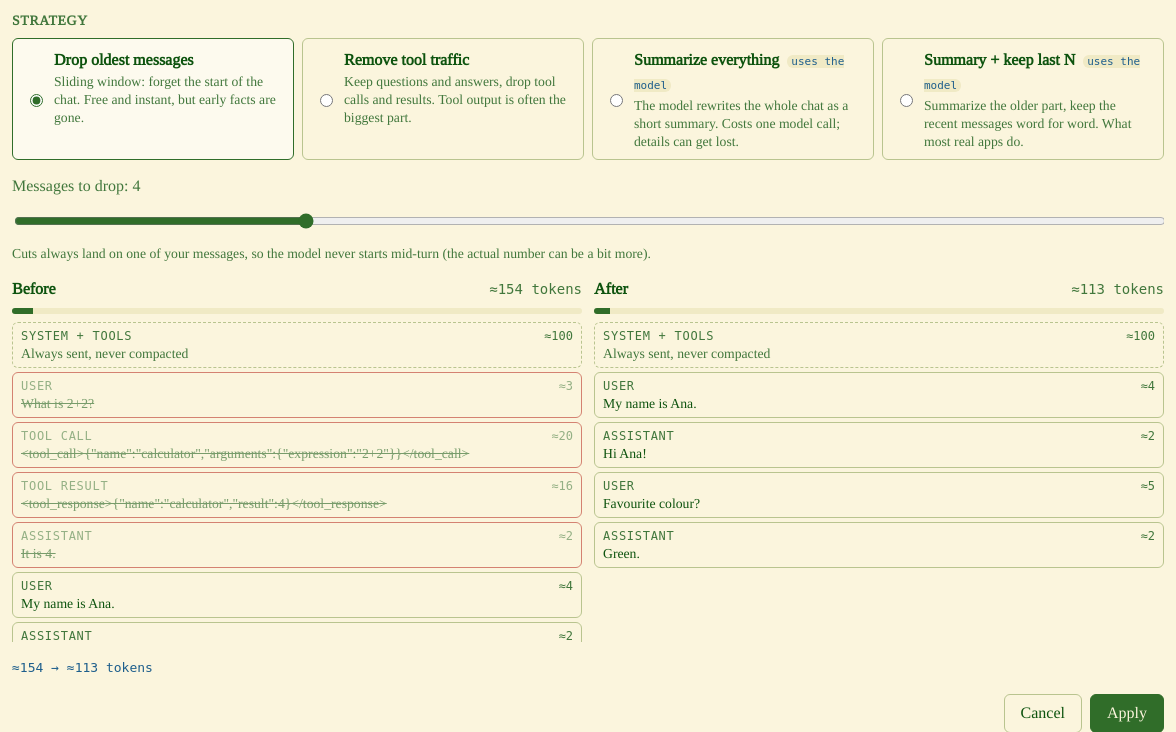
Test: summary errors are shown
Click the radio button labelled "Summarize everything": click(616, 100) x1=610 y1=50 x2=623 y2=151
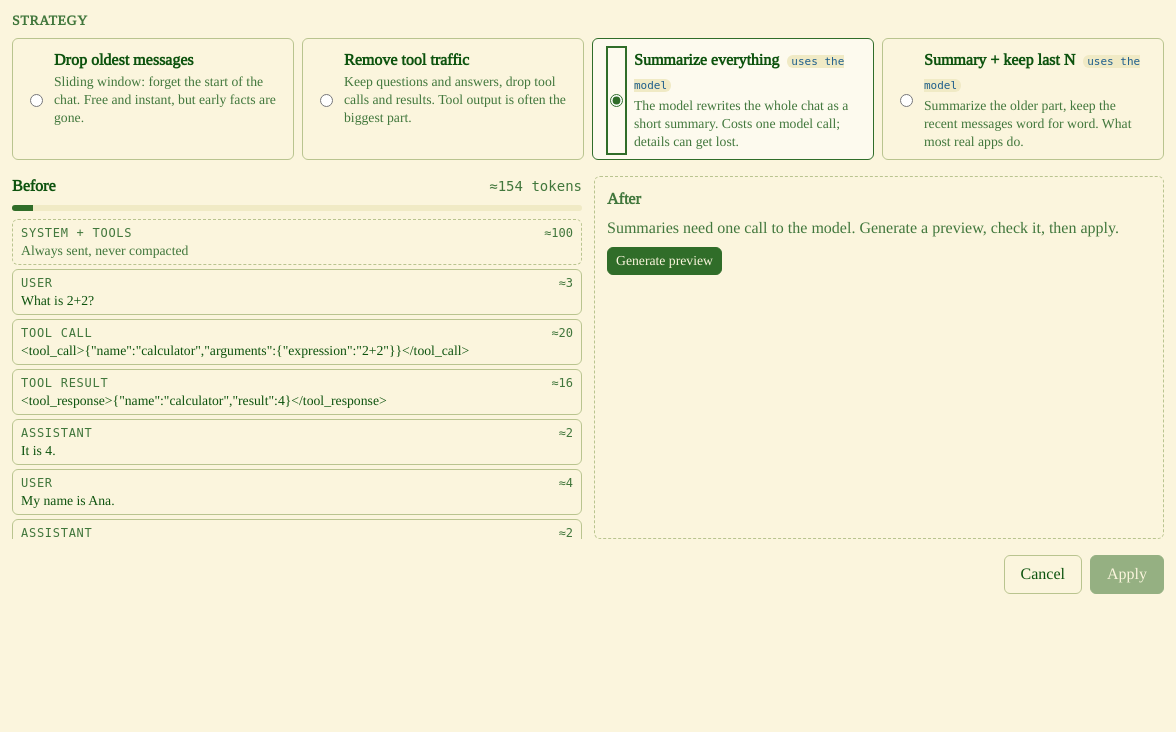
Click the button "Generate preview": click(664, 261) x1=607 y1=247 x2=722 y2=275
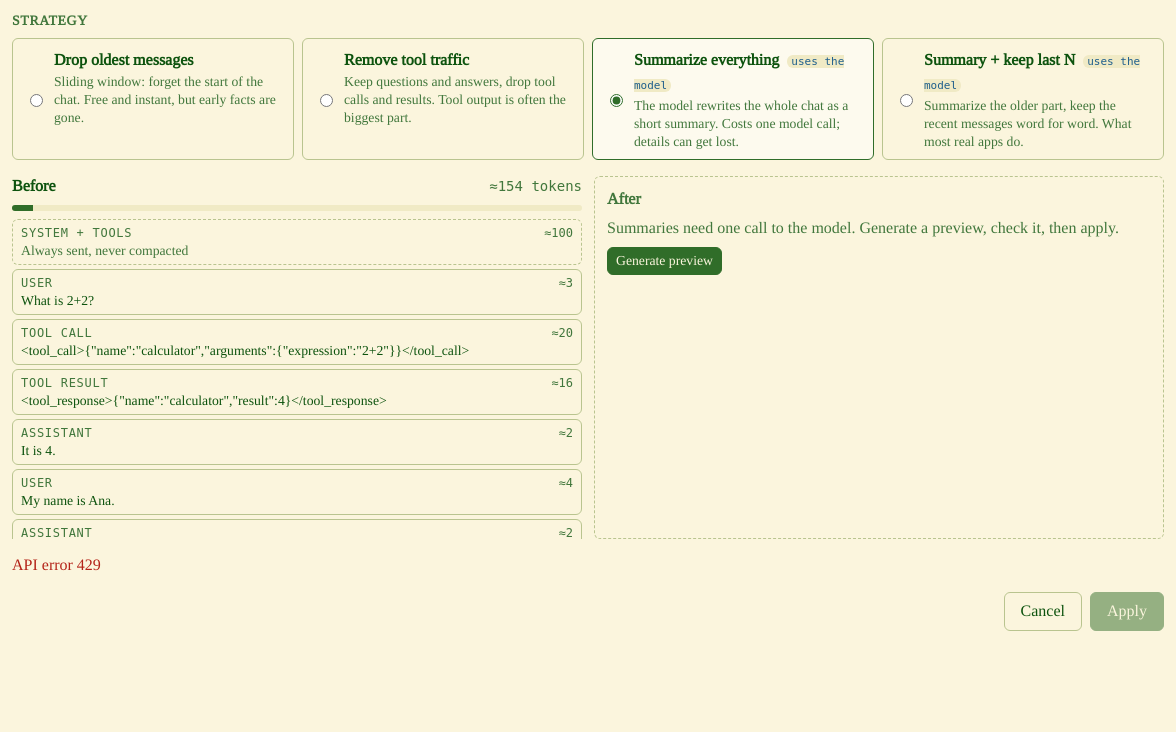
Expected: the message reads "API error 429", x1=12 y1=556 x2=101 y2=574
